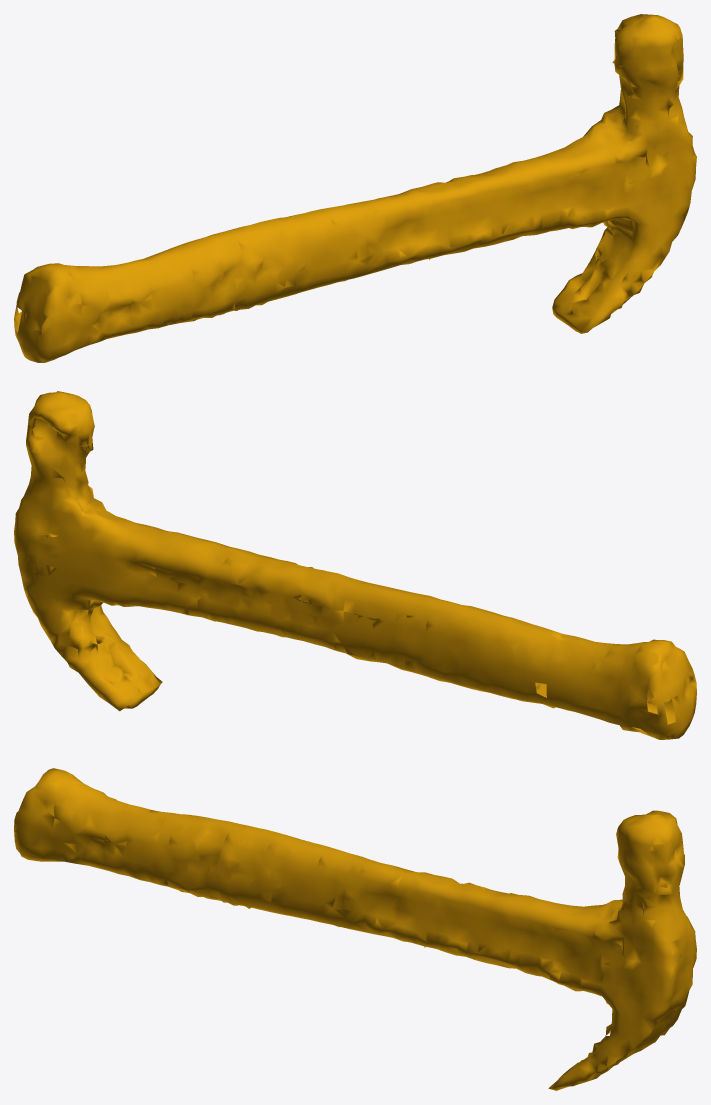
The model's file is model_origin.obj.
The picture shows the model from 3 angles, top to bottom: view 1: azimuth 30°, elevation 25°; view 2: azimuth 150°, elevation 25°; view 3: azimuth 330°, elevation 25°; orthographic projection.
Bounding box in the file's own units: 1 × 0.4159 × 0.1041.
